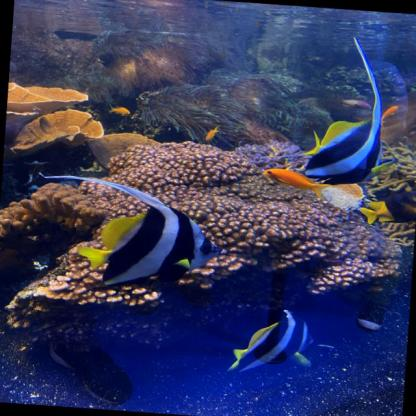fish: (76, 200, 231, 295), (303, 114, 396, 190), (225, 304, 316, 378), (357, 187, 415, 229), (262, 167, 331, 201), (336, 95, 372, 110), (380, 105, 399, 130), (109, 102, 131, 116), (204, 124, 220, 142)
